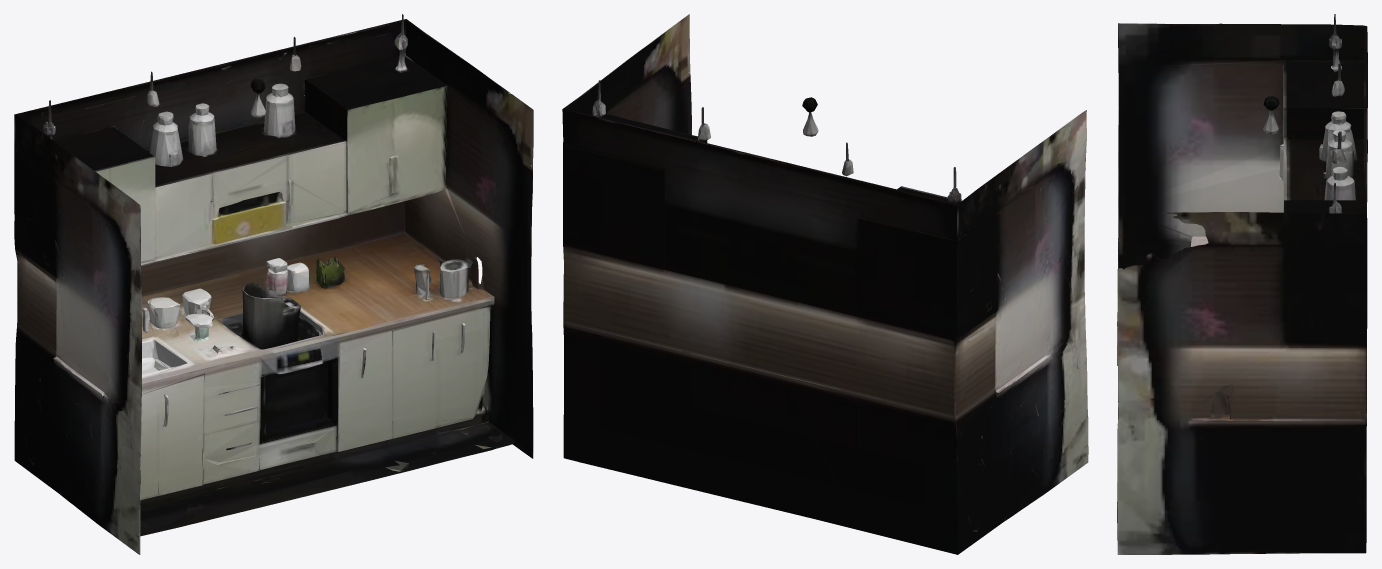
File: pJCvJ66Dv_emFXXU1t-uI.glb
3 renders of one model, left to right at view 1: azimuth 30°, elevation 25°; view 2: azimuth 150°, elevation 25°; view 3: azimuth 270°, elevation 25°, orthographic. The views are drawn at different scales.
Parts seen in each view (by area): view 1: geometry_0; view 2: geometry_0; view 3: geometry_0.
Part boxes in pixels (left/top/right/bottom): geometry_0: left=14, top=14, right=533, bottom=554; geometry_0: left=562, top=14, right=1088, bottom=554; geometry_0: left=1117, top=14, right=1367, bottom=554.
Bounding box in the file's own units: 1 × 0.8966 × 0.5605.
Materials: 1 (1 with a texture image).
